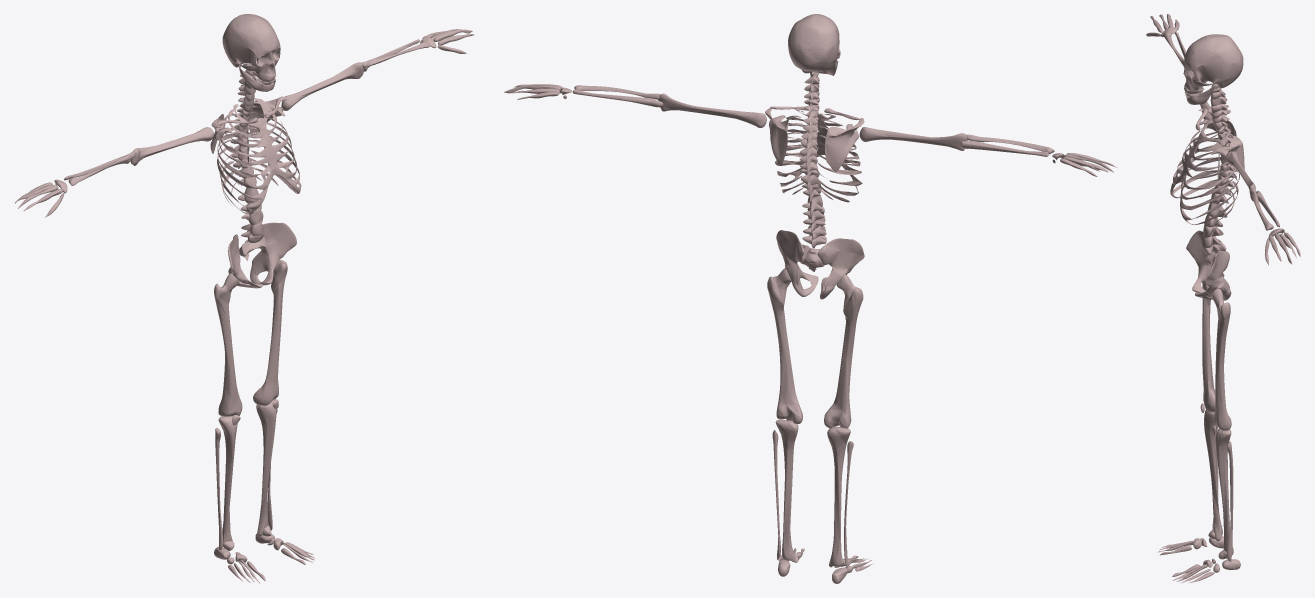
The model's file is skelette.obj.
3 renders of one model, left to right at view 1: azimuth 30°, elevation 25°; view 2: azimuth 150°, elevation 25°; view 3: azimuth 270°, elevation 25°, orthographic. The views are drawn at different scales.
Parts seen in each view (by area): view 1: VIFS01_White_Plastic; view 2: VIFS01_White_Plastic; view 3: VIFS01_White_Plastic.
Boxes of the visible parts, x1=… form: VIFS01_White_Plastic: x1=15, y1=14, x2=474, y2=583; VIFS01_White_Plastic: x1=504, y1=14, x2=1117, y2=583; VIFS01_White_Plastic: x1=1146, y1=14, x2=1300, y2=583.
Bounding box in the file's own units: 27.68 × 27.27 × 7.27.
